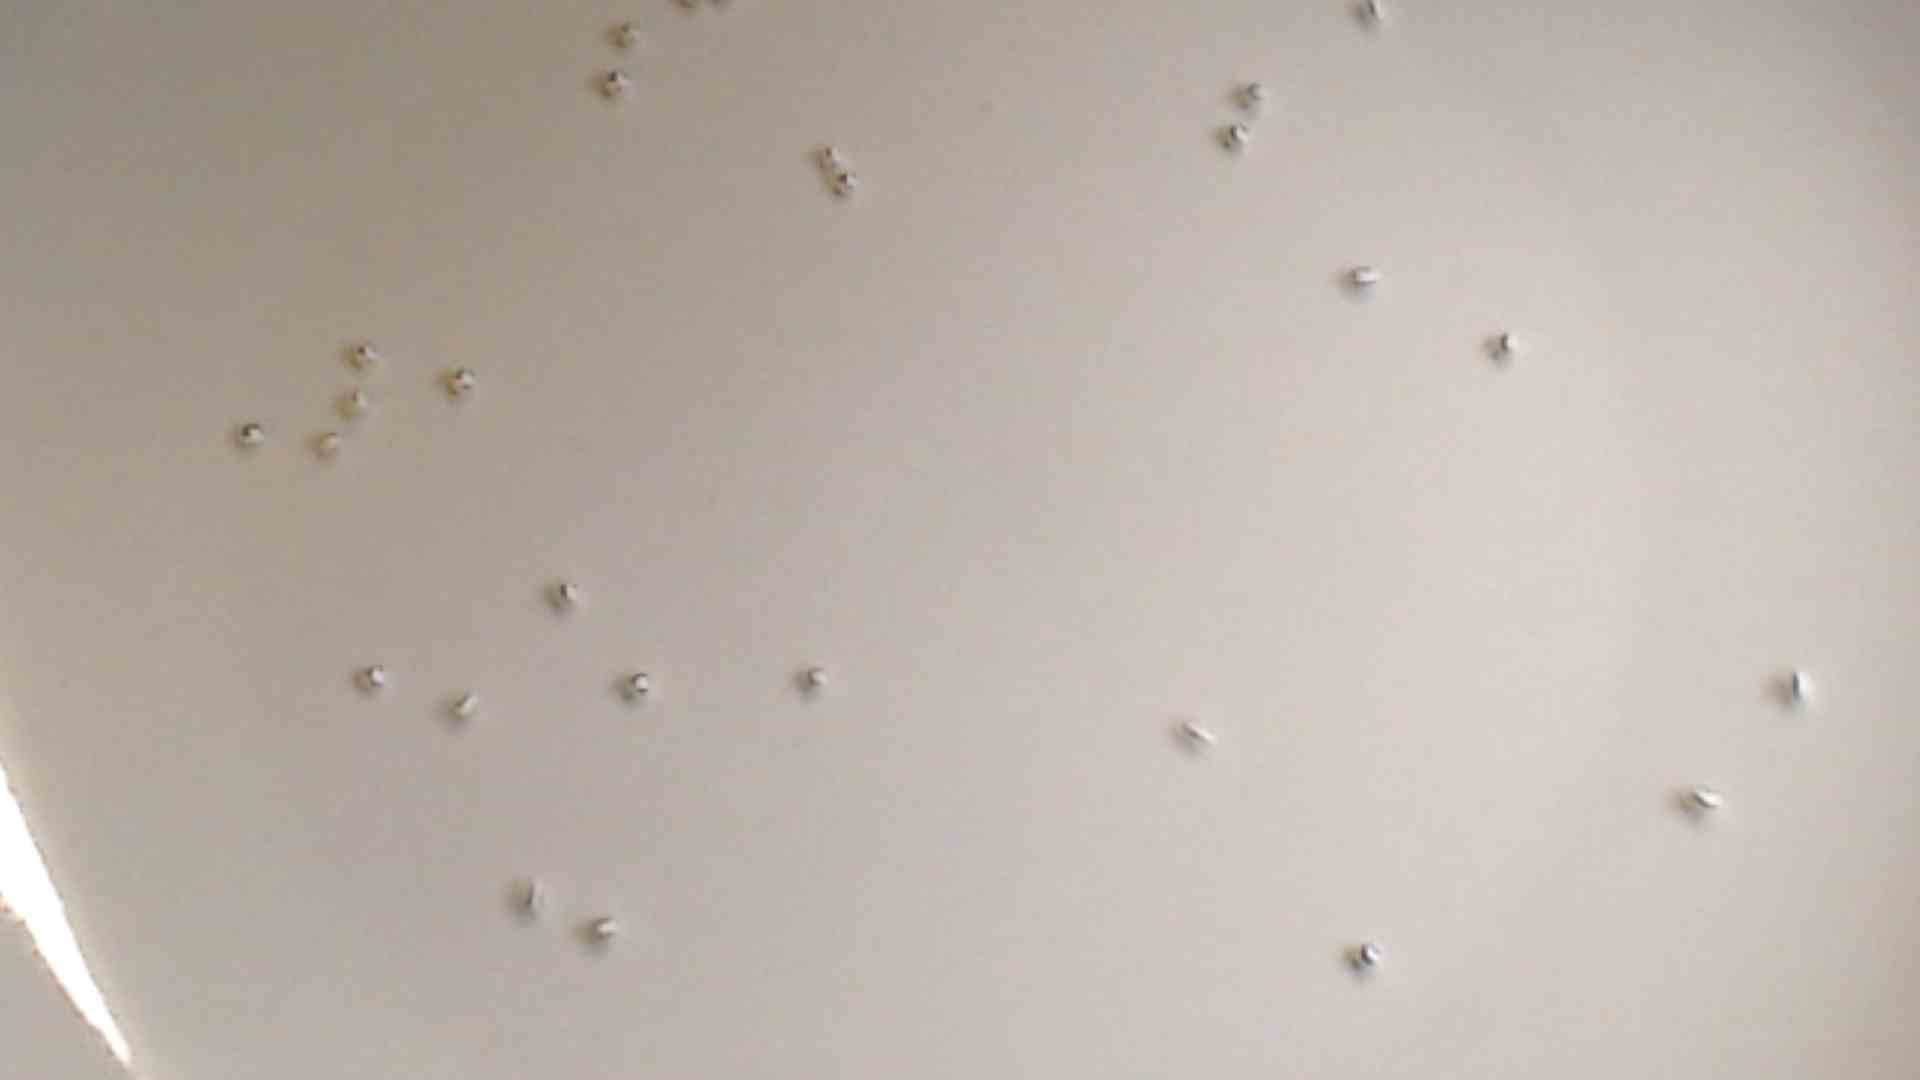chocolate: (1174, 708, 1220, 756), (1681, 775, 1724, 822), (1344, 255, 1387, 297), (1782, 665, 1820, 711), (514, 876, 554, 916), (444, 360, 484, 400), (1489, 320, 1522, 364), (353, 655, 390, 694), (1349, 932, 1386, 969), (600, 63, 636, 102), (448, 684, 487, 720), (585, 909, 624, 944), (1354, 1, 1398, 32), (1218, 112, 1254, 149), (338, 378, 373, 414), (799, 661, 833, 698), (233, 417, 270, 450), (622, 669, 659, 702), (1241, 75, 1275, 109), (311, 427, 347, 460), (615, 17, 646, 49), (556, 578, 589, 608), (348, 338, 380, 368), (829, 167, 862, 195), (818, 137, 849, 165)
